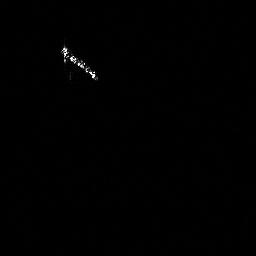ship: (55, 42, 101, 83)
